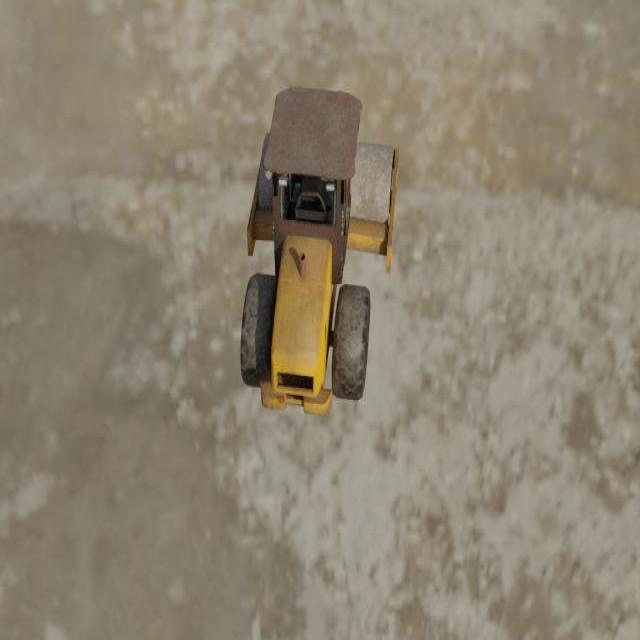Roller: (240, 85, 400, 416)
